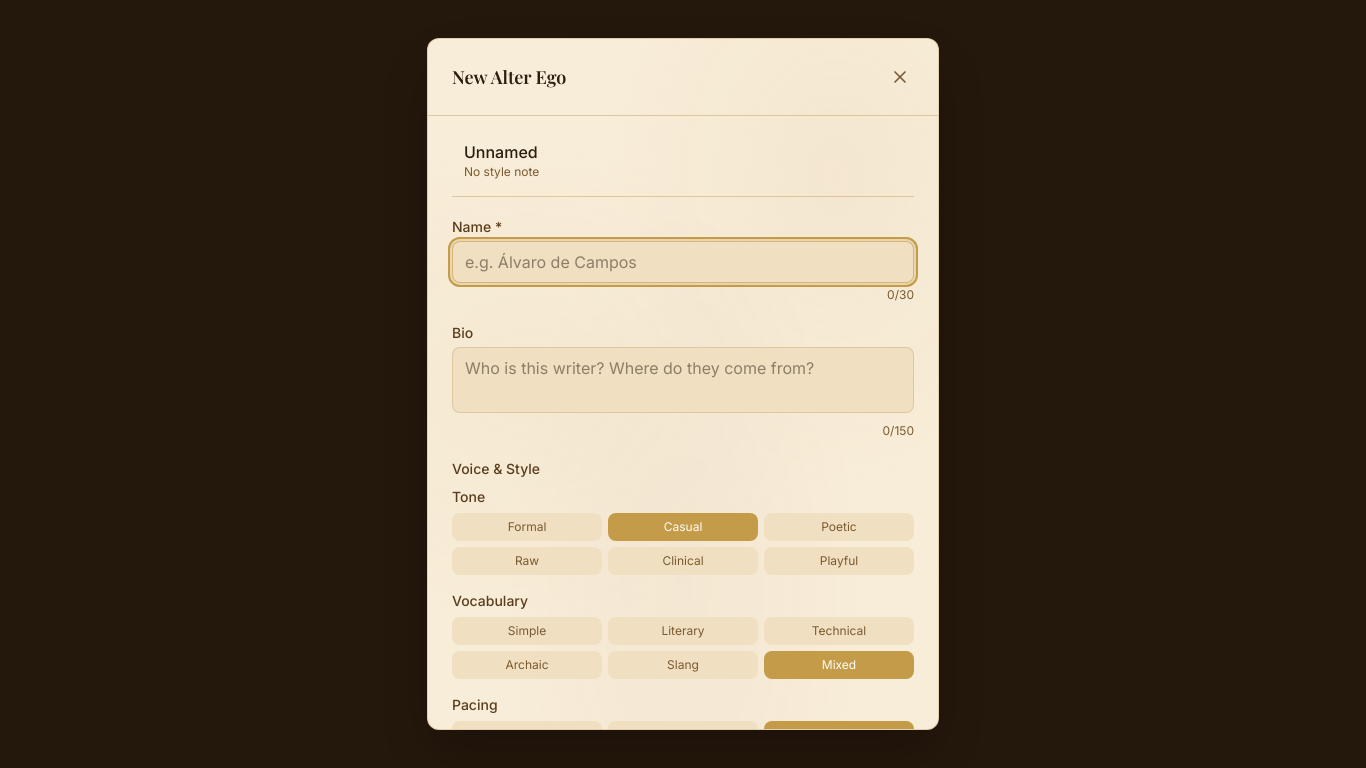
Test: HeteronymModal › shows character count for name
Expected: the text "0/30" is shown, [887,287,914,303]
Type "Test" into the field with placeholder "e.g. Álvaro de Campos" at (683, 262), box [452,241,914,283]
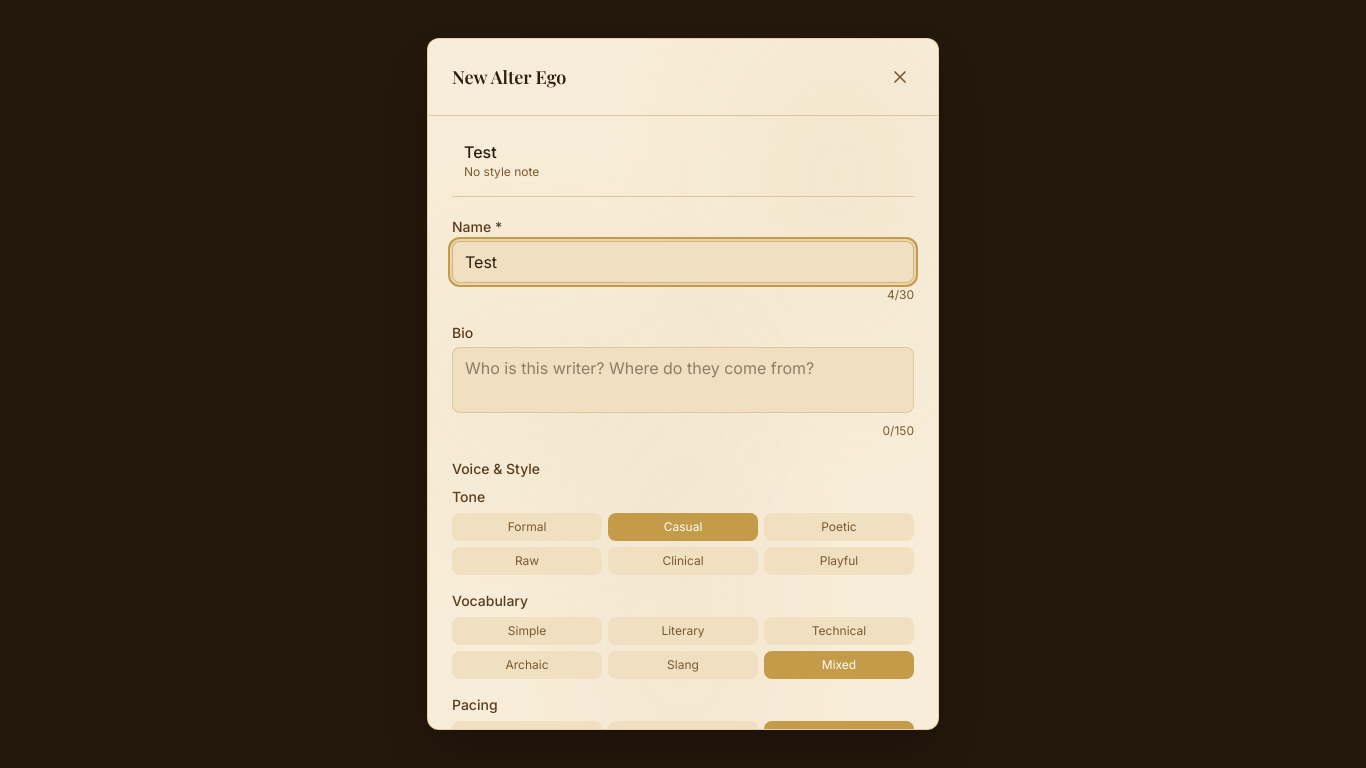
Expected: the text "4/30" is shown, [887,287,914,303]
